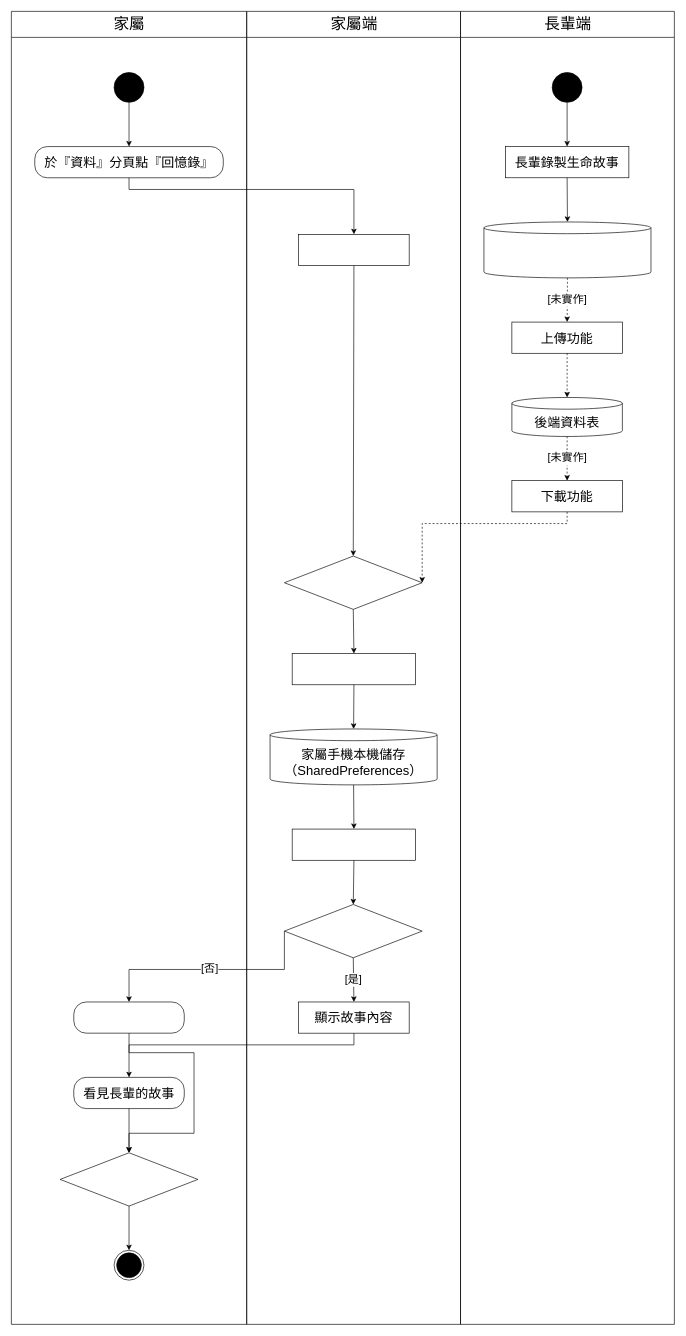
This 686x1336 diagram has some shape labels left out. Each missing label, with the centre of its shape:
"回憶錄畫廊畫面" belongs at (353,250).
"本機有資料？" belongs at (353,931).
"看見空狀態" belongs at (128,1017).
"讀取長輩回憶清單" belongs at (354,669).
"過濾示範用假資料" belongs at (354,844).
"長輩手機本機儲存 （SharedPreferences）" belongs at (567,249).
